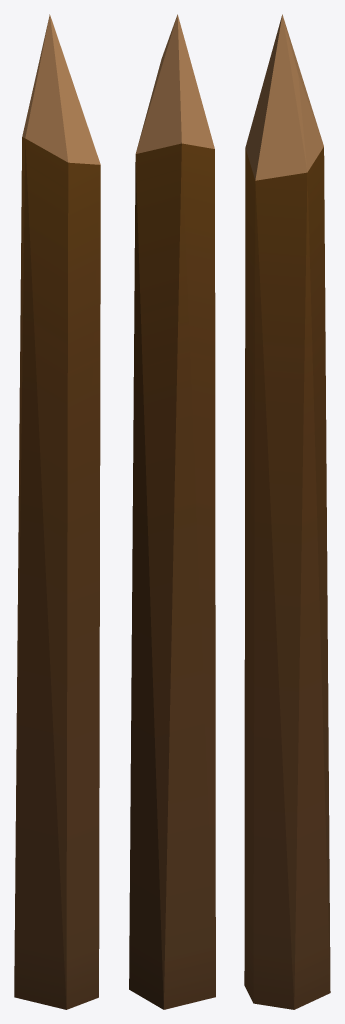
The model's file is FenceBig_06.fbx.
3 views of the same model, side by side, from view 1: azimuth 90°, elevation 25°; view 2: azimuth 150°, elevation 25°; view 3: azimuth 330°, elevation 25° (orthographic).
Parts seen in each view (by area): view 1: FenceBig_06; view 2: FenceBig_06; view 3: FenceBig_06.
Boxes of the visible parts, x1,y1,x2,y2 form: FenceBig_06: [14, 14, 100, 1009]; FenceBig_06: [129, 14, 215, 1009]; FenceBig_06: [244, 14, 330, 1009].
Bounding box in the file's own units: 21.31 × 274 × 21.94.
